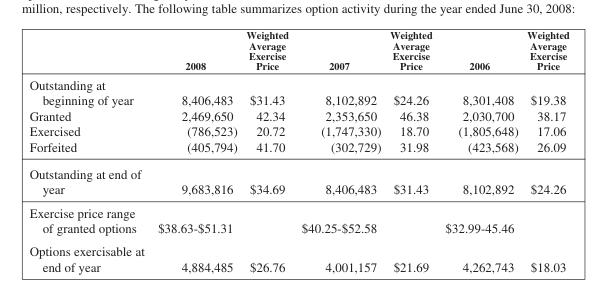table: (28, 28, 568, 273)
table column: (28, 28, 150, 273), (150, 28, 241, 273), (294, 28, 384, 273), (438, 28, 522, 273), (384, 28, 438, 273), (241, 28, 294, 273), (522, 28, 568, 273)
table column header: (28, 28, 568, 74)
table row: (28, 28, 568, 74), (28, 159, 568, 200), (28, 200, 568, 239), (28, 239, 568, 273), (28, 74, 568, 107), (28, 138, 568, 159), (28, 107, 568, 123), (28, 123, 568, 138)
